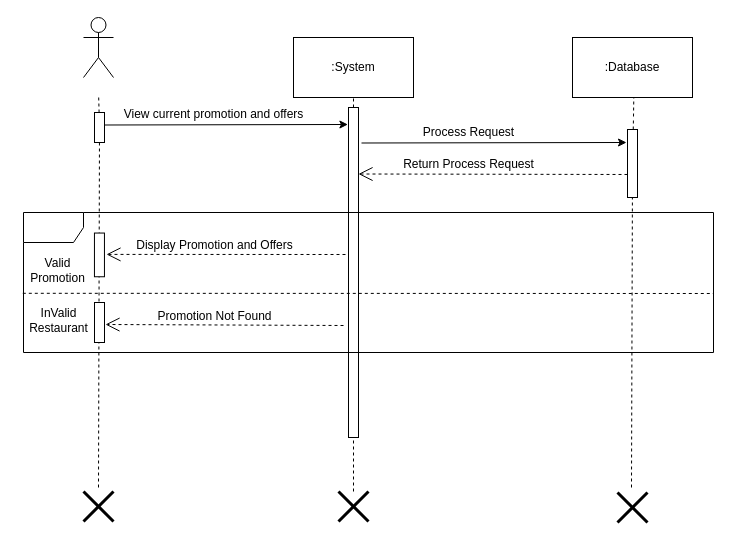
Image size: 732x541. Some labels were removed from this diagram. The shapes that lost their labels are listed below. From the top down, each one's box as (x1, y1, x2, y2) in pixels, then its label:
(82, 16, 114, 78): User
(22, 212, 714, 352): Alt
